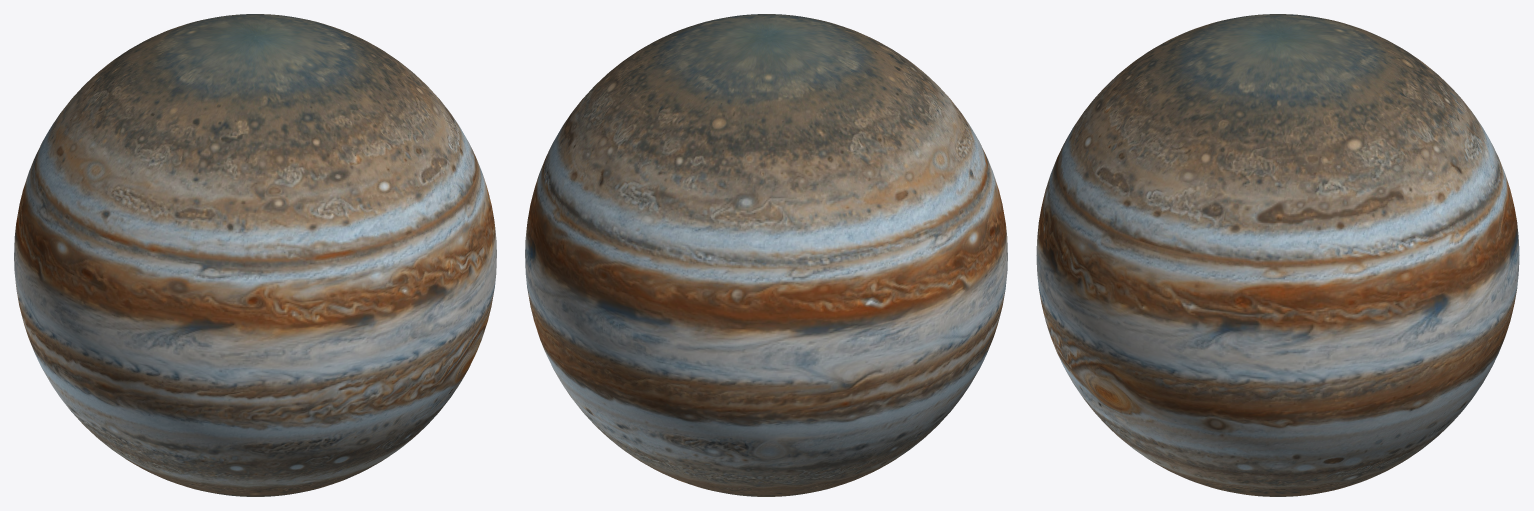
File: jupiter_s.glb
3 renders of one model, left to right at view 1: azimuth 30°, elevation 25°; view 2: azimuth 150°, elevation 25°; view 3: azimuth 270°, elevation 25°, orthographic.
Parts seen in each view (by area): view 1: Sphere; view 2: Sphere; view 3: Sphere.
Boxes of the visible parts, <box> form: Sphere: <box>14,14,496,496</box>; Sphere: <box>525,14,1007,496</box>; Sphere: <box>1036,14,1519,496</box>.
Bounding box in the file's own units: 1003 × 1003 × 1003.
1 material, 1 textured.
